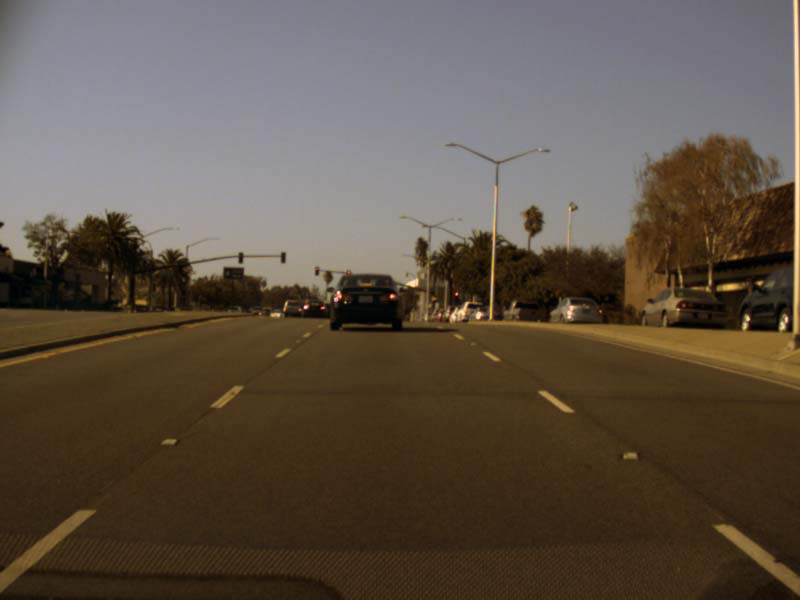Red: (452, 289, 459, 303), (314, 266, 318, 275), (346, 269, 350, 274)
